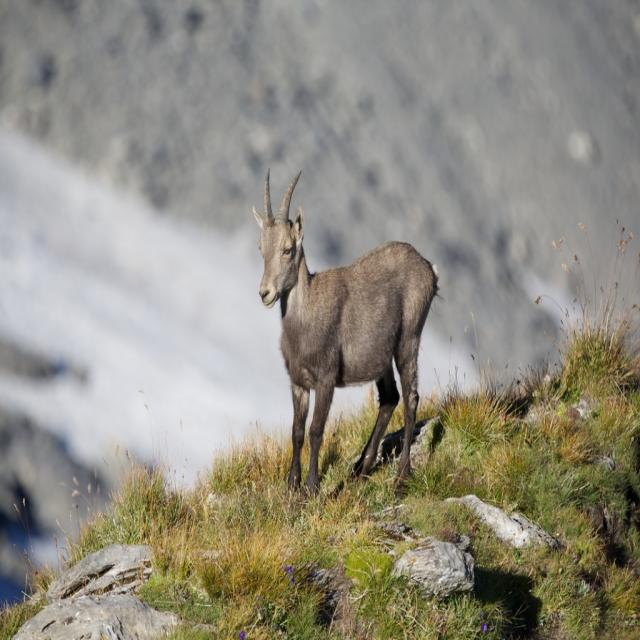Goat: (247, 164, 438, 511)
